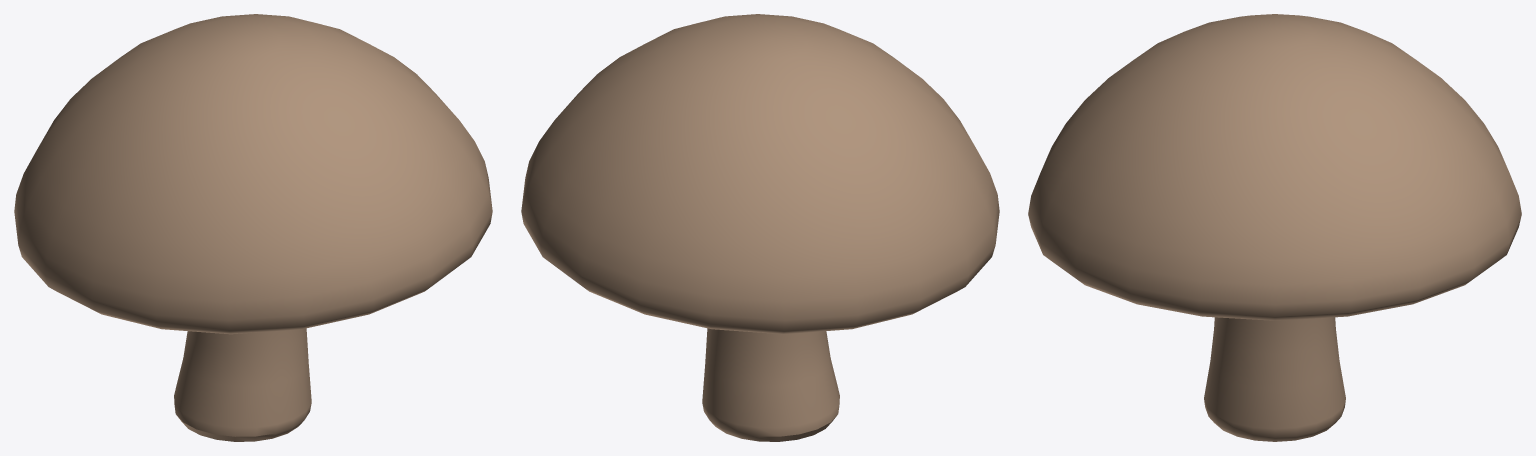
File: Fruit_Mushroom.fbx
3 renders of one model, left to right at view 1: azimuth 30°, elevation 25°; view 2: azimuth 150°, elevation 25°; view 3: azimuth 270°, elevation 25°, orthographic. The views are drawn at different scales.
Parts seen in each view (by area): view 1: pasted__pSphere4; view 2: pasted__pSphere4; view 3: pasted__pSphere4.
Part boxes in pixels (left/top/right/bottom): pasted__pSphere4: left=14, top=14, right=492, bottom=441; pasted__pSphere4: left=521, top=14, right=999, bottom=441; pasted__pSphere4: left=1028, top=14, right=1521, bottom=441.
Size of the model in its own units: 0.3499 by 0.3104 by 0.3506.
